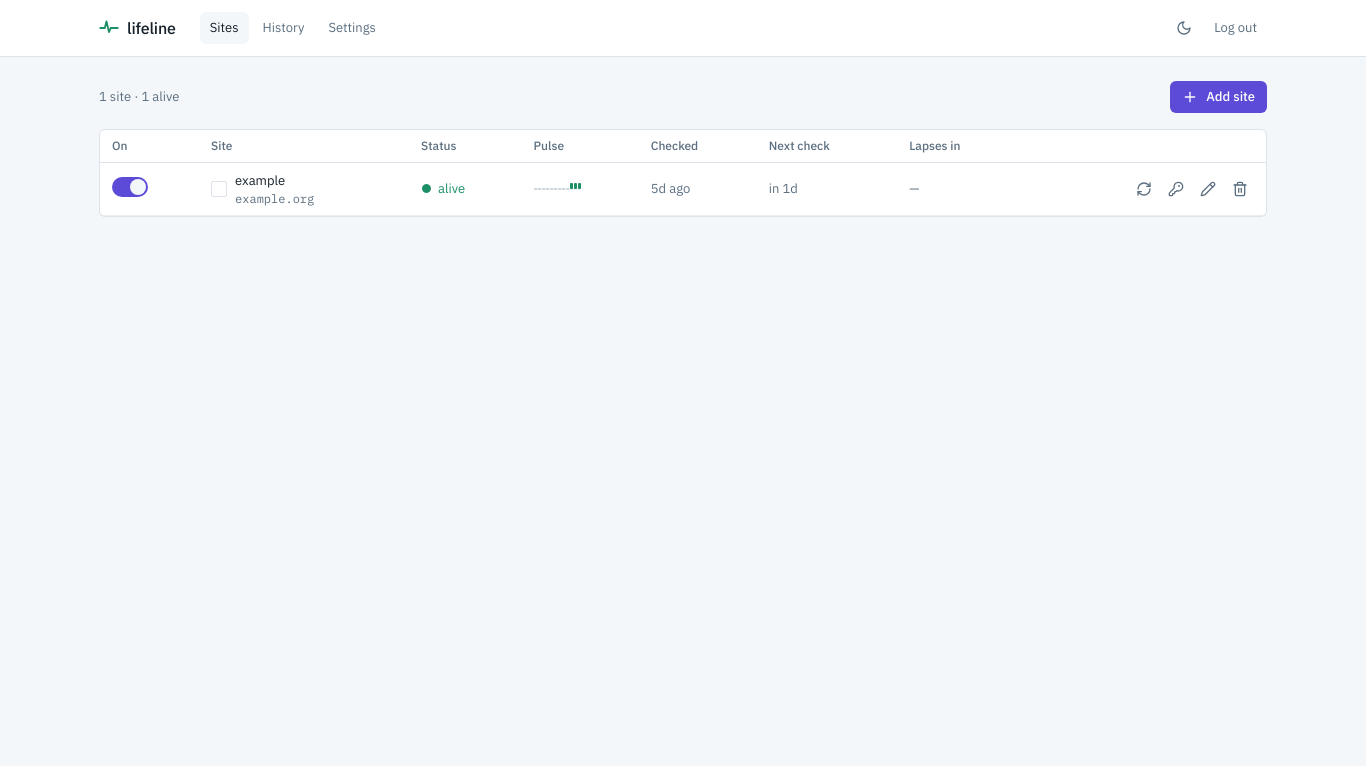
App › moves between the screens
Expected: the text "example" is shown, [235,172,285,189]
What coordinates should you click on to do the following:
click the link "Settings"
I would click on:
 (352, 28)
Its box is [328,19,376,36].
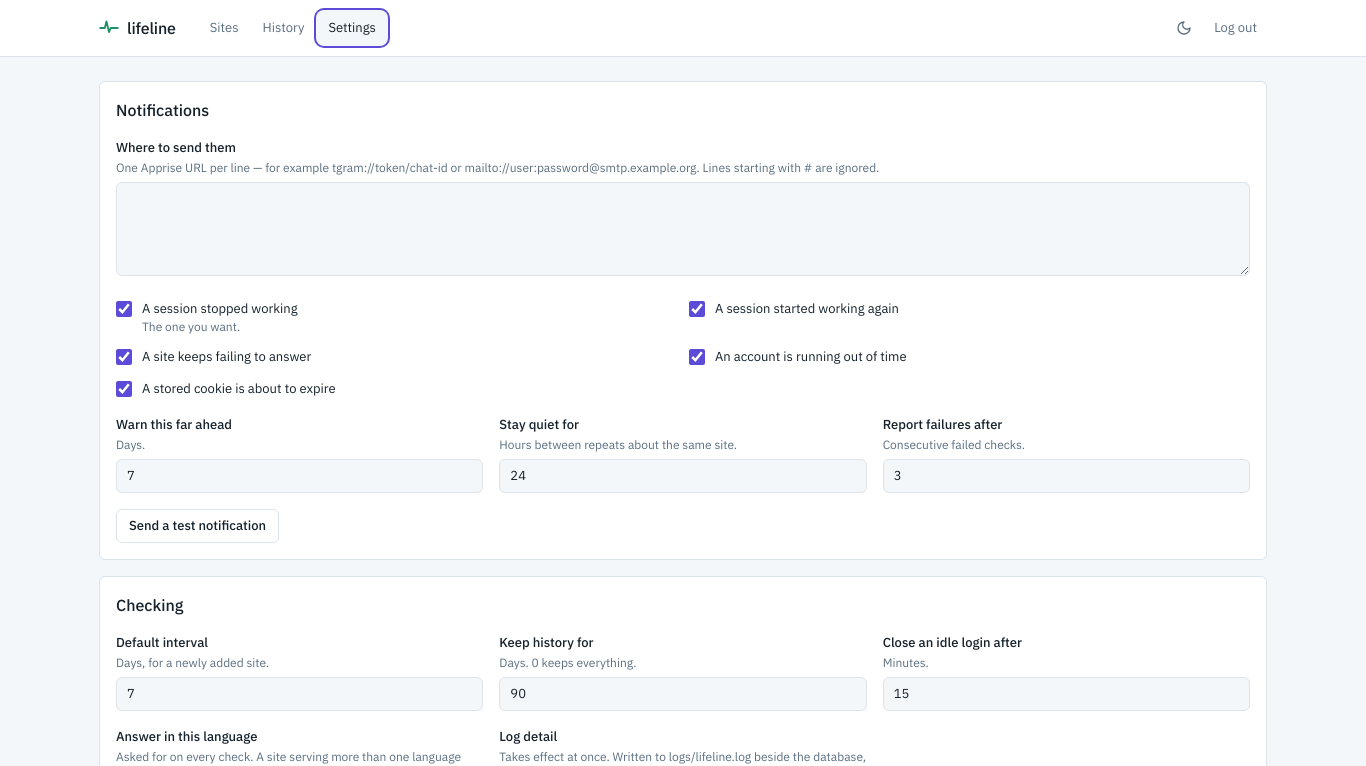
Now the heading "Notifications" is shown, box [116,100,209,120]
